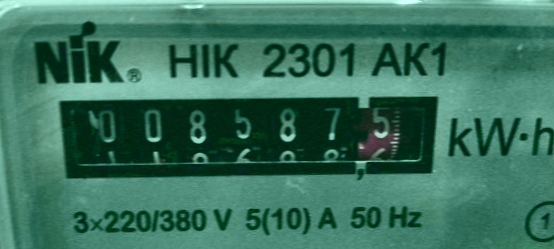0: (139, 104, 164, 145)
1: (94, 105, 118, 147)
5: (368, 101, 393, 142), (230, 104, 254, 142)
7: (320, 103, 343, 145)
8: (184, 106, 209, 147), (276, 104, 297, 145)
screen: (38, 74, 458, 200)
